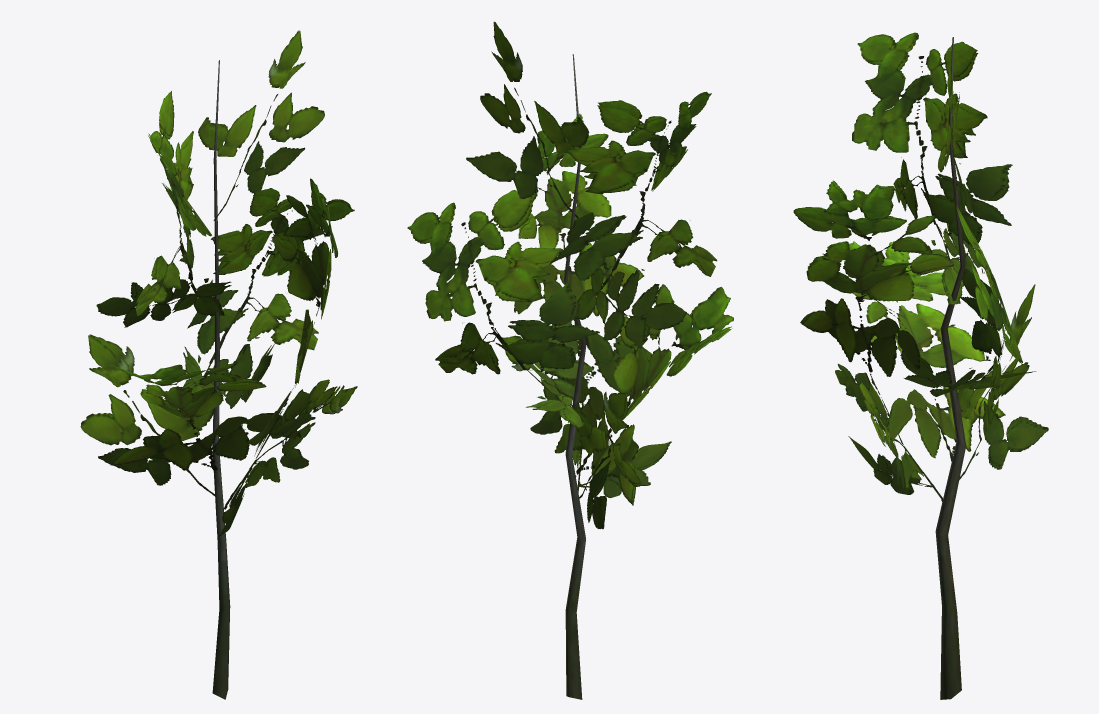
The model's file is mesh_qingming_tree02.FBX.
The picture shows the model from 3 angles, left to right: view 1: azimuth 30°, elevation 25°; view 2: azimuth 150°, elevation 25°; view 3: azimuth 270°, elevation 25°; orthographic projection. The views are drawn at different scales.
Parts seen in each view (by area): view 1: mesh_qingming_tree02; view 2: mesh_qingming_tree02; view 3: mesh_qingming_tree02.
Boxes of the visible parts, x1,y1,x2,y2 form: mesh_qingming_tree02: (80, 30, 357, 699); mesh_qingming_tree02: (407, 21, 733, 699); mesh_qingming_tree02: (793, 32, 1048, 699).
Size of the model in its own units: 4.45 by 9.31 by 3.7.
